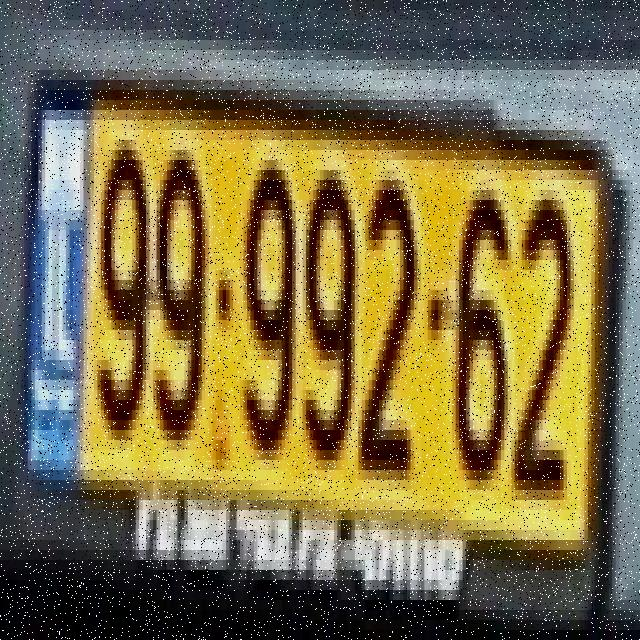licenseplate: (19, 38, 614, 612)
